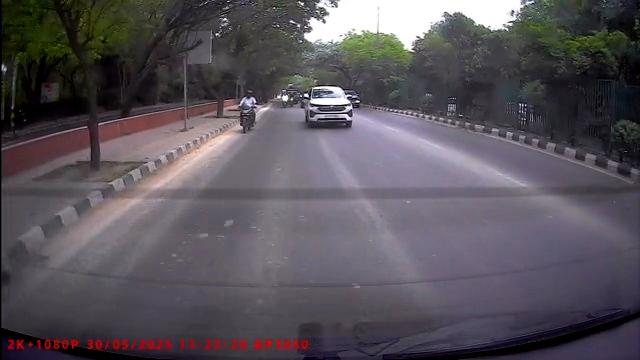motorcycle_with_helmet: (237, 88, 258, 135)
